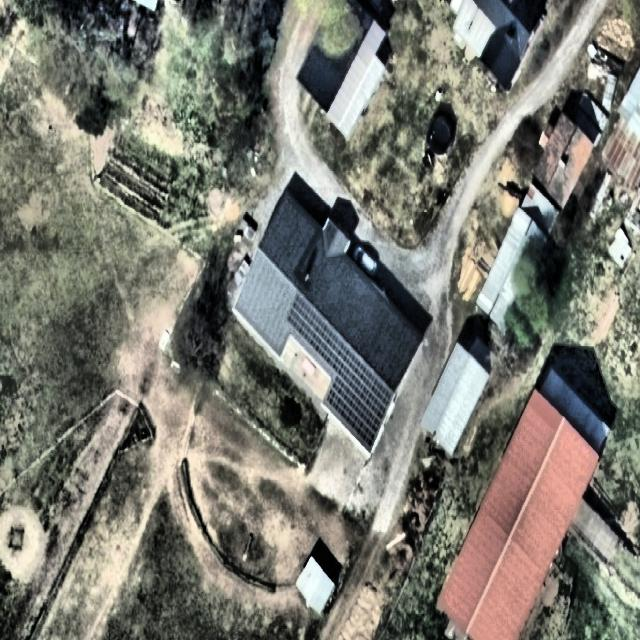roof_pv: (326, 339, 392, 453), (288, 292, 342, 351)
